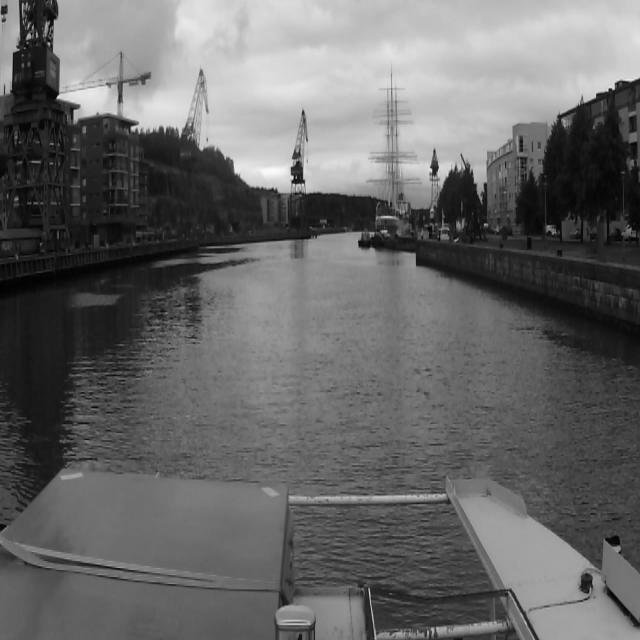ship: (375, 61, 403, 234), (358, 231, 370, 249)
